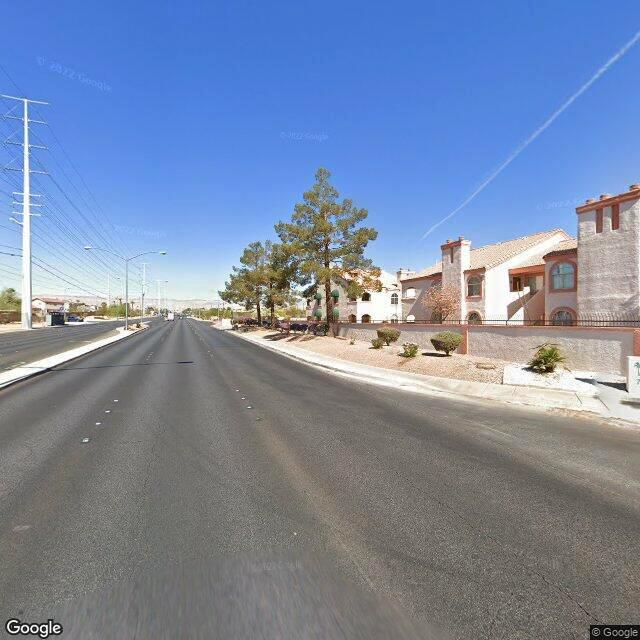crack: (374, 458, 608, 627)
